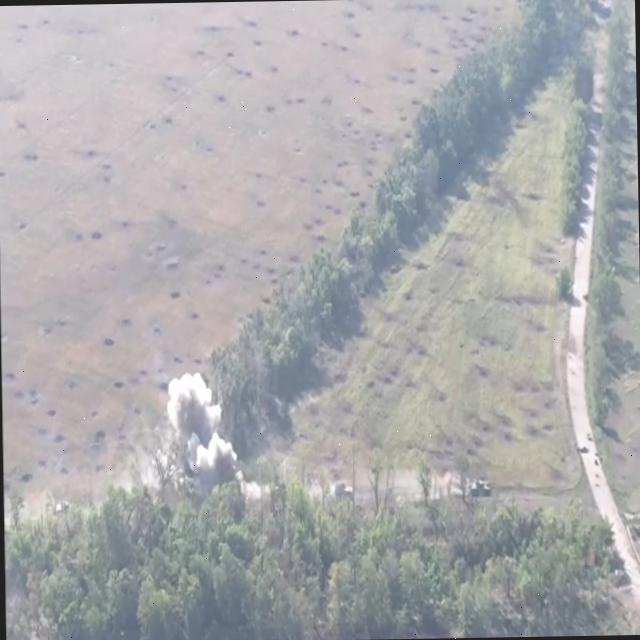AIFV: (332, 483, 356, 504), (54, 499, 75, 518)
MBT: (469, 477, 495, 498)
